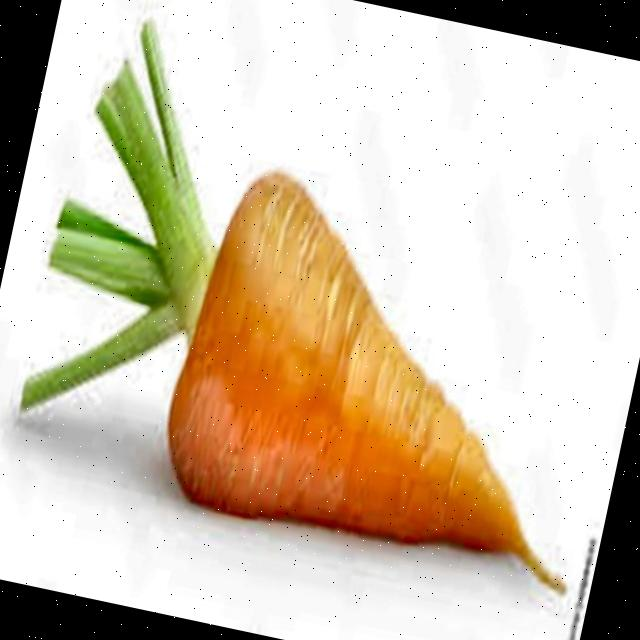carrot: (21, 23, 565, 592)
